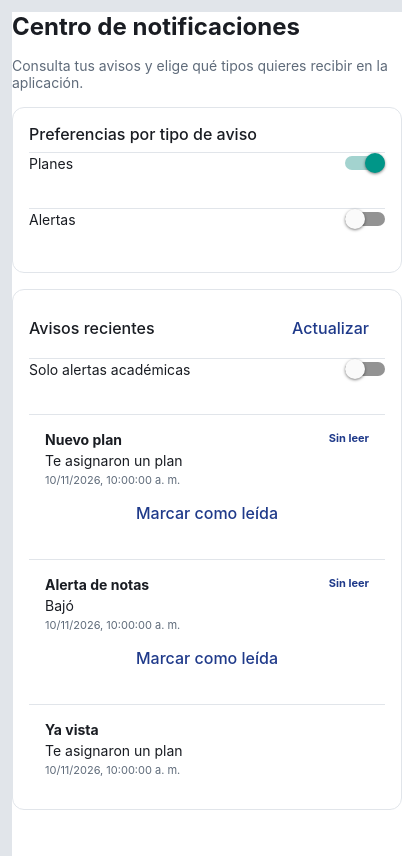
Test: si marcar como leída falla muestra el error de la API
Expected: the text "Nuevo plan" is shown, [45,431,122,448]
Click the button "Marcar como leída" below "Nuevo plan" at (207, 513), box [45,491,369,535]
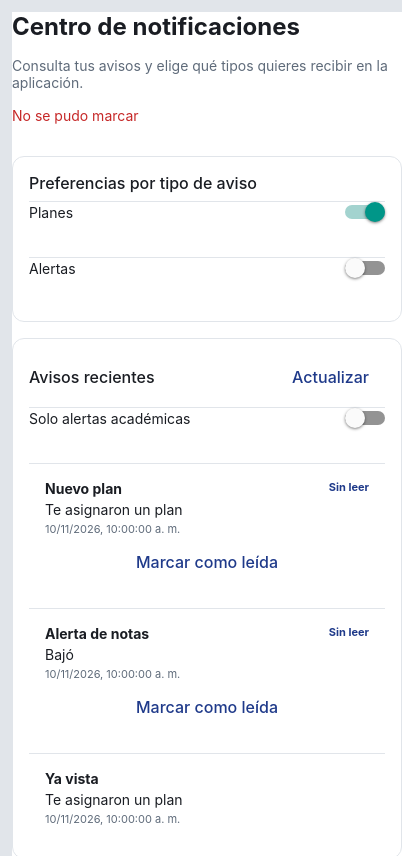
Result: the text "No se pudo marcar" is shown at [12,107,139,124]
